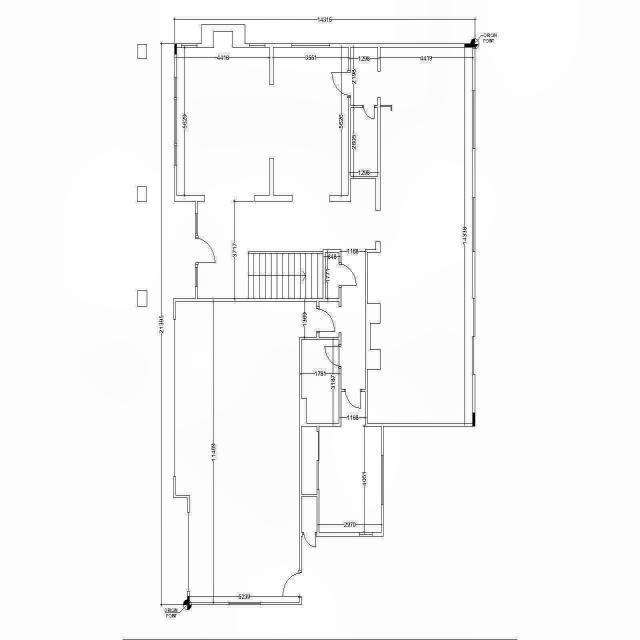Column: (472, 412, 476, 427), (464, 44, 476, 48), (174, 44, 177, 54), (187, 596, 190, 605)
Door: (195, 236, 216, 264), (282, 570, 302, 598), (331, 70, 351, 98), (316, 306, 336, 333), (338, 262, 356, 288), (324, 344, 342, 368), (344, 389, 362, 409), (302, 532, 316, 548), (362, 105, 375, 119)
Sliding Door: (472, 298, 476, 374), (316, 432, 320, 489)
Staircase: (235, 252, 323, 298)
Window: (472, 90, 476, 150), (472, 198, 476, 252), (292, 44, 331, 48), (381, 456, 384, 504), (174, 100, 177, 144), (228, 602, 260, 605), (181, 44, 197, 48), (249, 44, 265, 48), (174, 77, 177, 98), (195, 267, 198, 287), (195, 214, 198, 234), (174, 146, 177, 166), (360, 532, 372, 536)
